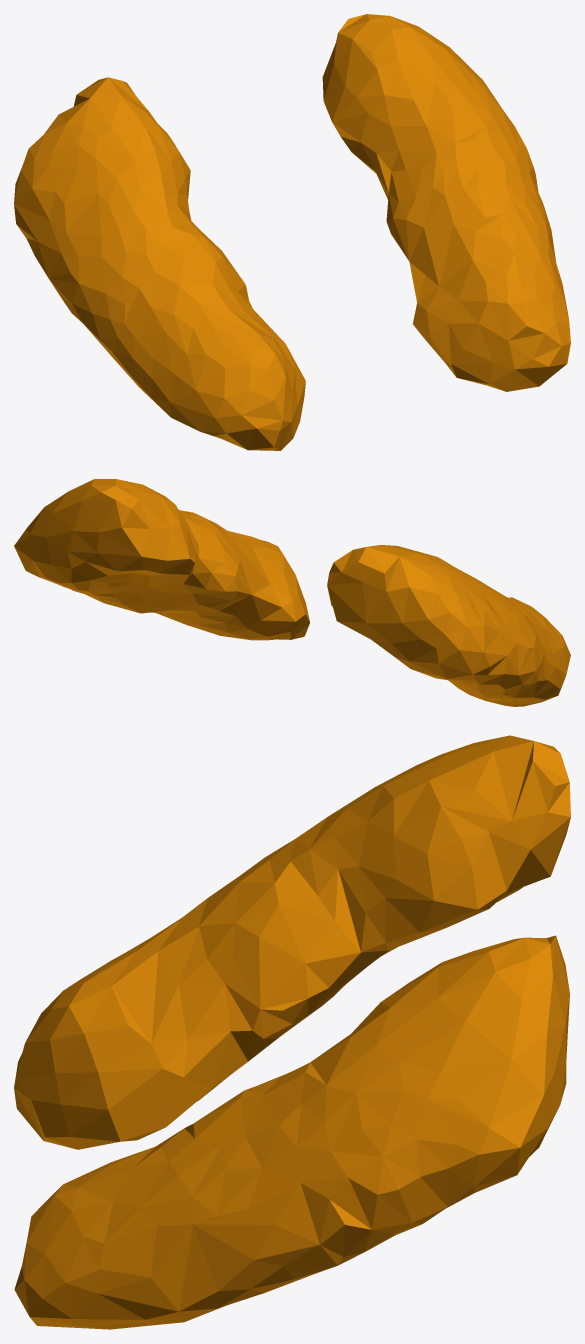
Rendered from 215-9.32-area 9.32 of cortex-('1.0000', '0.6118', '0.0000').obj.
The picture shows the model from 3 angles, top to bottom: view 1: azimuth 30°, elevation 25°; view 2: azimuth 150°, elevation 25°; view 3: azimuth 270°, elevation 25°; orthographic projection. The views are drawn at different scales.
Bounding box in the file's own units: 80.81 × 42.16 × 53.98.
